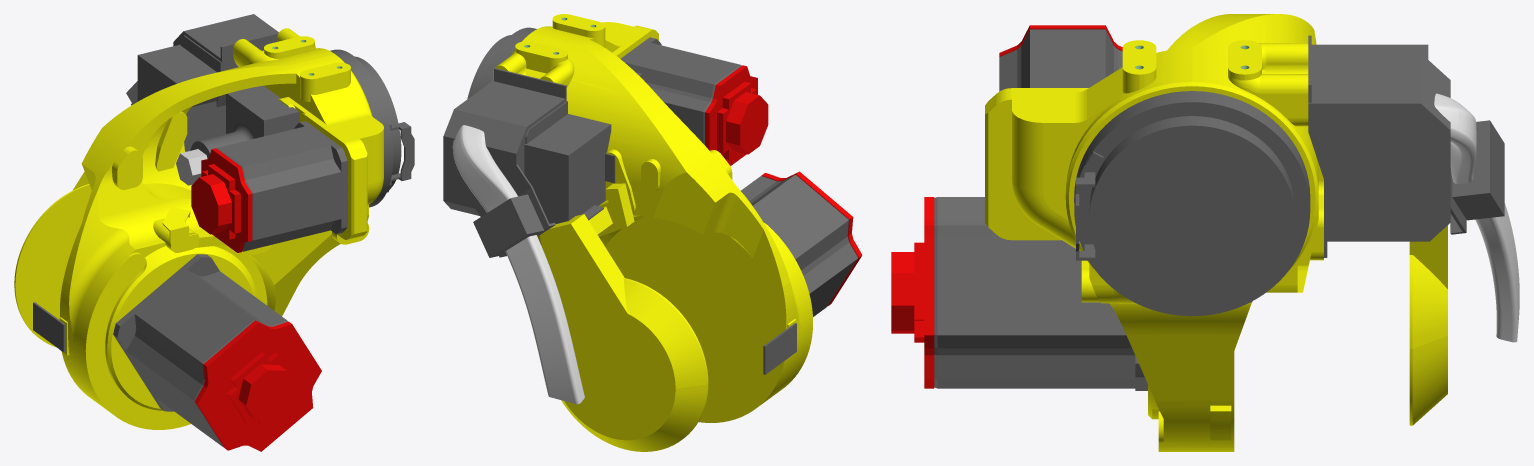
3 views of the same model, side by side, from view 1: azimuth 30°, elevation 25°; view 2: azimuth 150°, elevation 25°; view 3: azimuth 270°, elevation 25° (orthographic). The views are drawn at different scales.
Parts seen in each view (by area): view 1: Mesh_0; view 2: Mesh_0; view 3: Mesh_0.
Part boxes in pixels (x1,y1,x2,y2): Mesh_0: (14, 14, 414, 451); Mesh_0: (443, 14, 862, 451); Mesh_0: (891, 14, 1519, 451).
Size of the model in its own units: 0.4867 by 0.5961 by 0.501.
